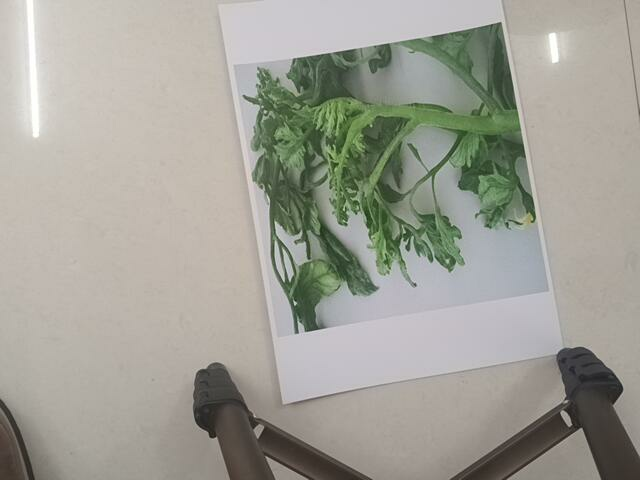Tomamto_Mosaic_virus: (242, 67, 550, 295)
